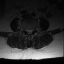CCS_normal: (28, 26, 30, 35)
LFS_normal: (32, 26, 34, 33)
LLS_normal: (30, 27, 32, 35)
RFS_normal: (24, 25, 26, 33)
RLS_normal: (26, 26, 28, 34)
